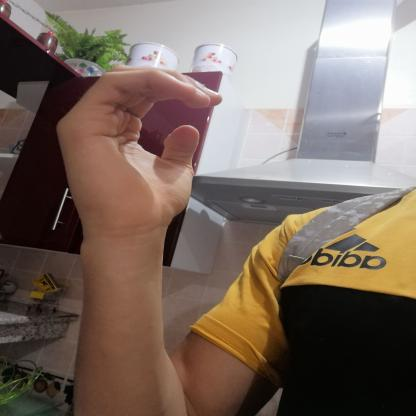JEEM: (34, 46, 240, 243)
